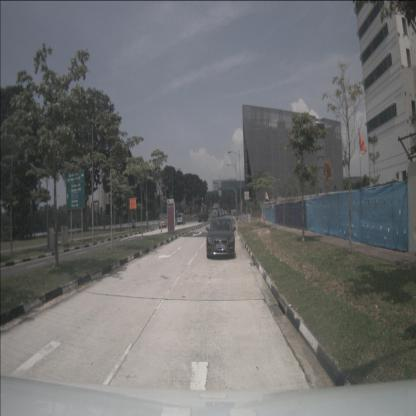vehicle-car: (206, 217, 235, 258), (177, 213, 185, 225), (159, 218, 167, 229)
vehicle-truck: (198, 206, 208, 222), (212, 203, 220, 218)
